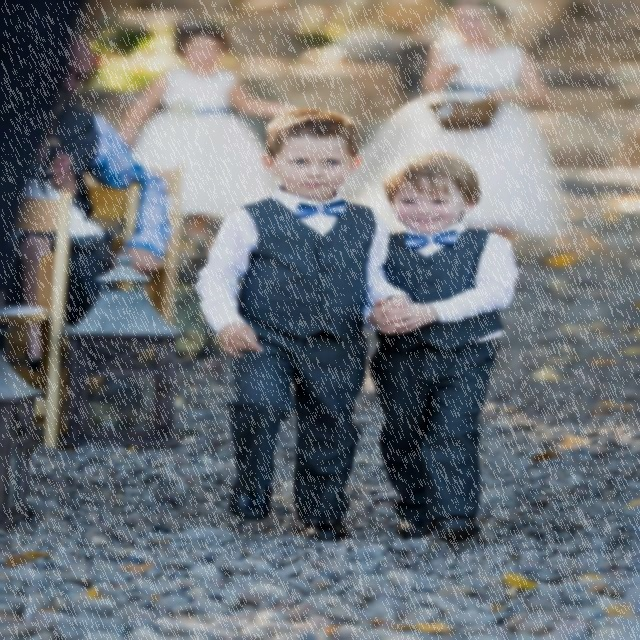pessoa: (194, 108, 416, 540), (340, 150, 522, 542), (114, 20, 304, 264), (0, 76, 103, 379)
